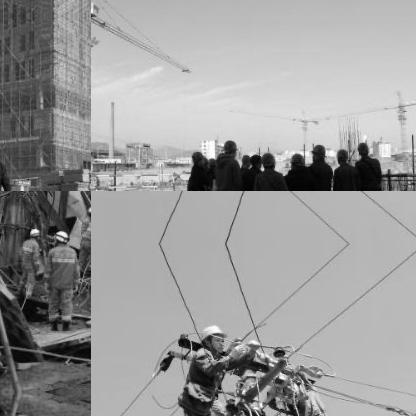Helmet: (196, 322, 226, 350), (53, 226, 67, 245), (258, 150, 274, 166), (288, 151, 304, 167), (334, 146, 348, 162), (221, 138, 235, 154), (189, 149, 203, 163), (310, 144, 324, 158), (355, 140, 369, 154), (239, 152, 251, 166), (28, 224, 38, 240), (206, 154, 216, 166), (85, 202, 90, 219)
